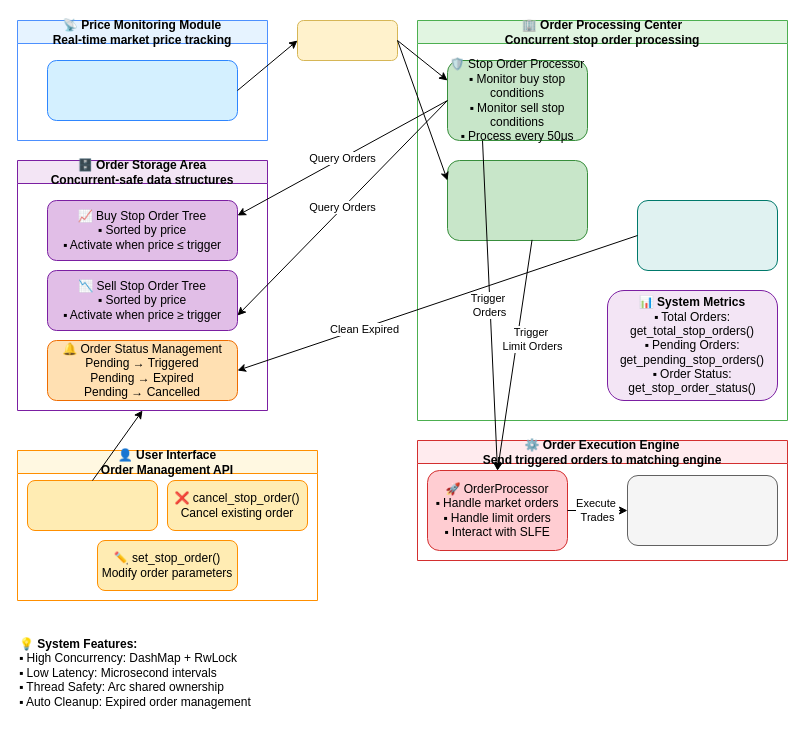
Some shapes in this 805 by 747 pixel diagram are drawn without their labels. The centre of each missing label's shape, as x and y in pixels:
"➕ add_stop_order() Create new stop order" goes at [92,505].
"🌐 External Trading System SLFE Matching Engine" goes at [702,510].
"🎯 Stop-Limit Order Processor ▪ Precise price control ▪ Convert to limit orders" goes at [517,200].
"💰 price_listener_task() ▪ Check price every 100μs ▪ Send signal on price change" goes at [142,90].
"📊 Price Data Stream" goes at [347,40].
"🧹 Cleanup Task ▪ Check expired orders ▪ Auto-remove expired" goes at [707,235].
